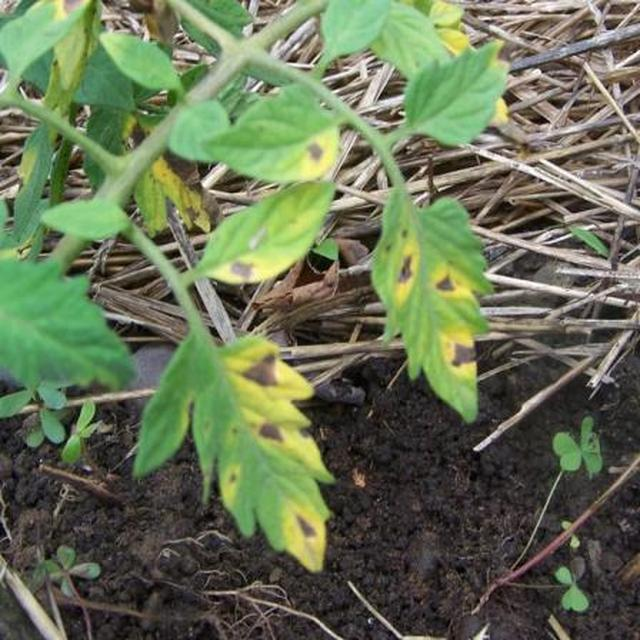Early Blight Leaf: (178, 135, 616, 640)
